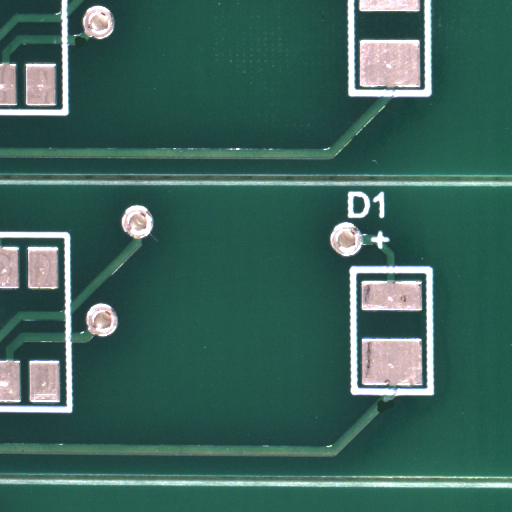Mouse_bite: (385, 406, 403, 419), (80, 42, 91, 52)
